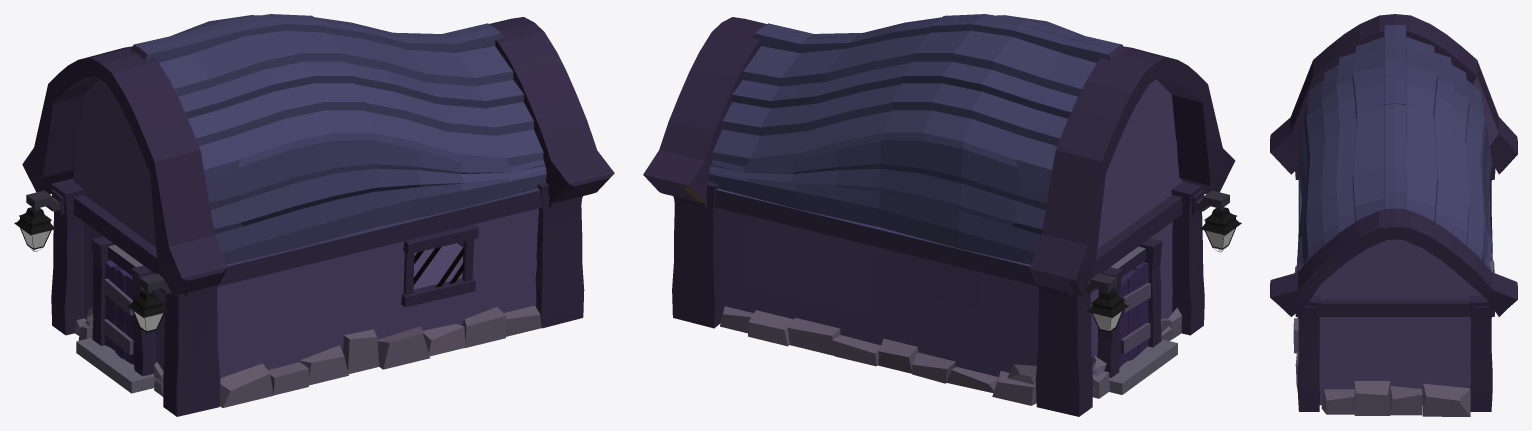
File: casa6.0.fbx
3 renders of one model, left to right at view 1: azimuth 30°, elevation 25°; view 2: azimuth 150°, elevation 25°; view 3: azimuth 270°, elevation 25°, orthographic. The views are drawn at different scales.
Parts seen in each view (by area): view 1: casa.003, pedras.003, arco de entrada.002, janela, negocinho feio.004, porta.003; view 2: casa.003, pedras.003, arco de entrada.002, negocinho feio.004, porta.003; view 3: casa.003, pedras.003.
Part boxes in pixels (left/top/right/bottom): casa.003: left=22, top=14, right=614, bottom=416; pedras.003: left=74, top=305, right=541, bottom=407; arco de entrada.002: left=76, top=236, right=156, bottom=393; janela: left=401, top=224, right=478, bottom=307; negocinho feio.004: left=14, top=190, right=171, bottom=334; porta.003: left=103, top=260, right=134, bottom=364; casa.003: left=643, top=14, right=1235, bottom=416; pedras.003: left=720, top=306, right=1181, bottom=405; arco de entrada.002: left=1097, top=238, right=1177, bottom=394; negocinho feio.004: left=1084, top=190, right=1241, bottom=334; porta.003: left=1119, top=262, right=1150, bottom=367; casa.003: left=1270, top=14, right=1517, bottom=411; pedras.003: left=1293, top=253, right=1494, bottom=416.
Bounding box in the file's own units: 6410 × 4278 × 3901.
